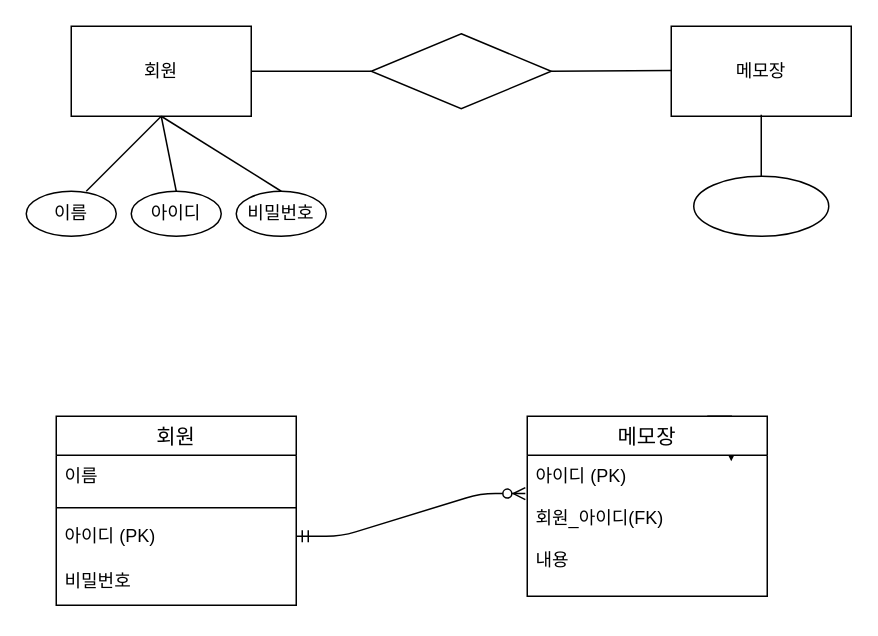
The diagram is 878 pixels wide and 636 high, and some of its shapes have lost their labels. The shapes that lost their labels are listed below. From the top down, each one's centre as x and y in pixels, then its label:
the point at 460,70: 작성
the point at 760,205: 내용
